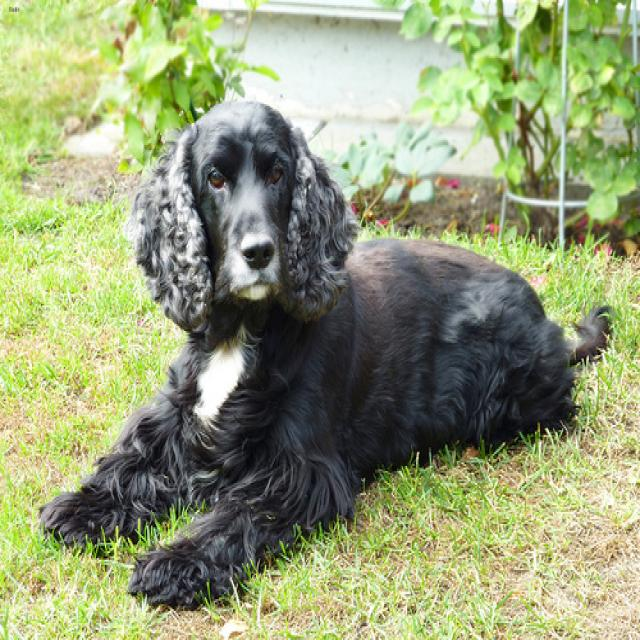dog-english_cocker_spaniel: (29, 89, 614, 618)
